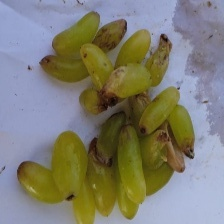grapes: (26, 46, 213, 191)
